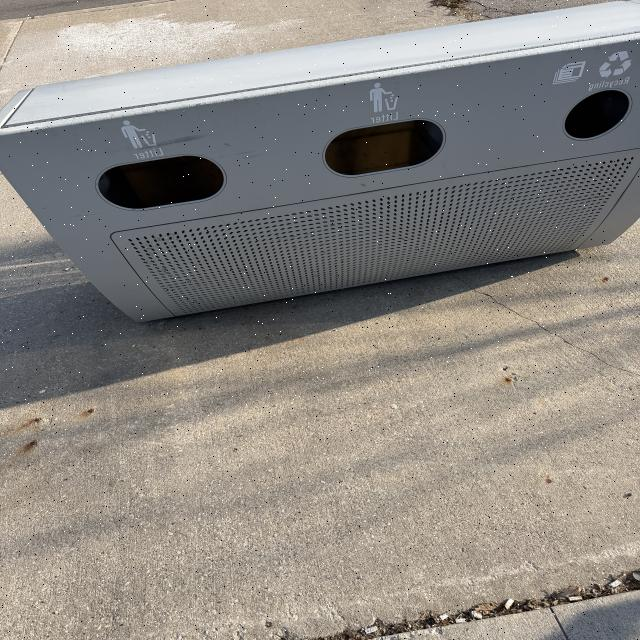Dustbin: (0, 0, 639, 324)
